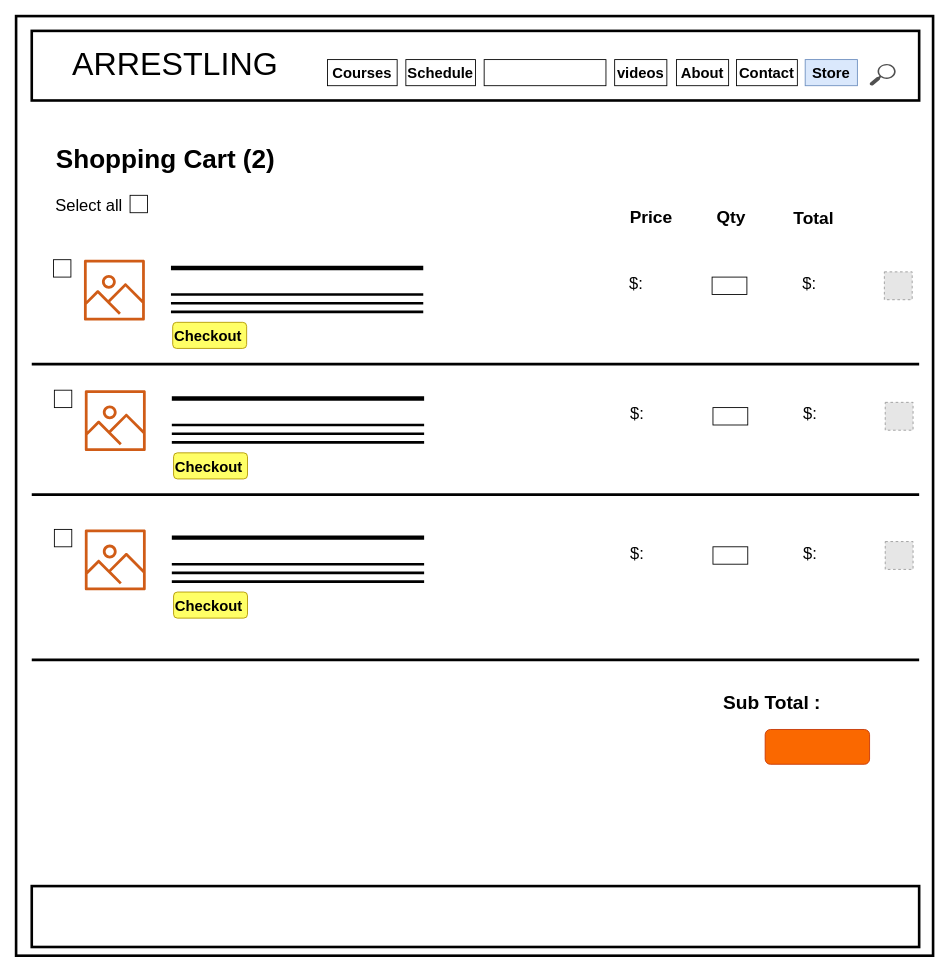
This 949x972 diagram has some shape labels left out. Grey dashed boxes stand in for pictures. Each missing label, with the centre of its shape:
"Buy" goes at (817,746).
"Training Groups" goes at (544,72).
